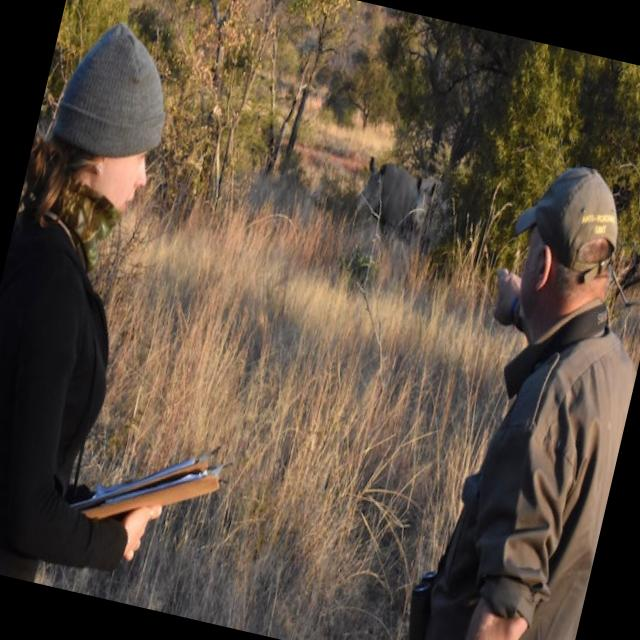ranger: (0, 0, 332, 609), (383, 106, 640, 640)
rhino: (335, 103, 476, 266)
